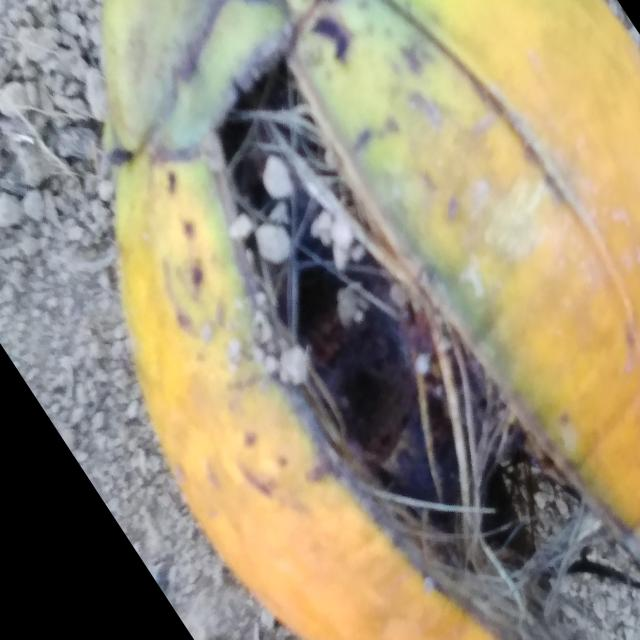damaged: (103, 0, 640, 640)
